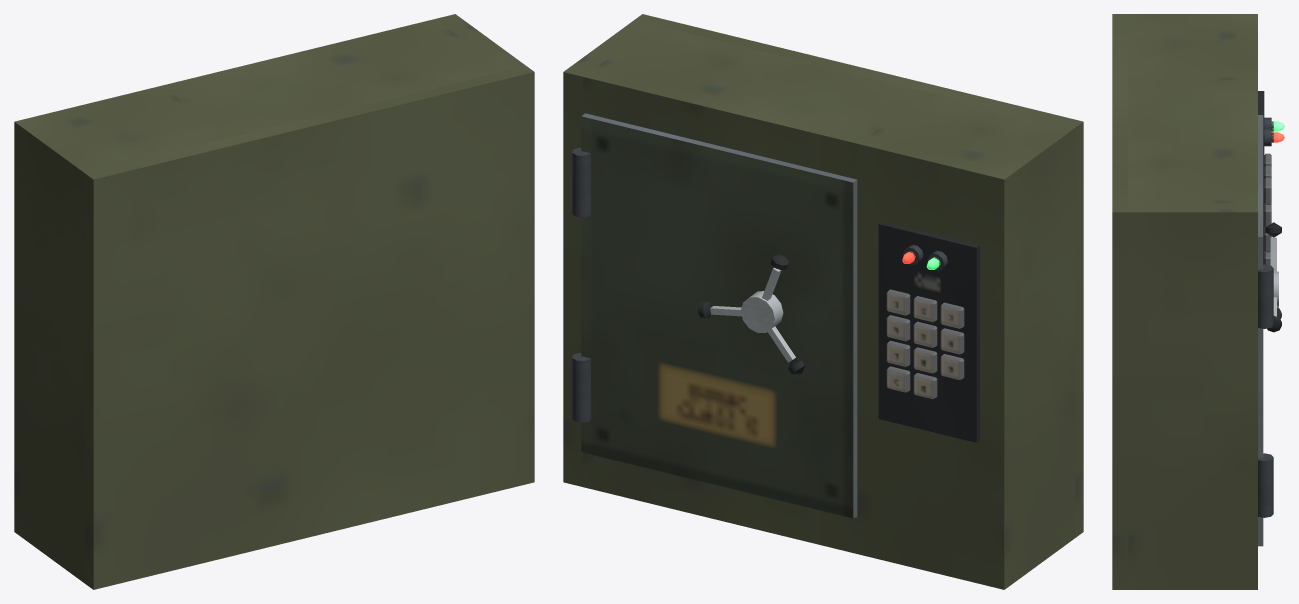
The model's file is safe_wall.fbx.
3 views of the same model, side by side, from view 1: azimuth 30°, elevation 25°; view 2: azimuth 150°, elevation 25°; view 3: azimuth 270°, elevation 25° (orthographic). The views are drawn at different scales.
Parts seen in each view (by area): view 1: safe_wall; view 2: safe_wall, safe_wall_door; view 3: safe_wall, safe_wall_door.
Part boxes in pixels (x1,y1,x2,y2): safe_wall: (14, 14, 534, 589); safe_wall: (563, 14, 1083, 589); safe_wall_door: (581, 113, 857, 518); safe_wall: (1112, 14, 1273, 589); safe_wall_door: (1258, 115, 1281, 546).
Size of the model in its own units: 0.9 by 0.8 by 0.331.
1 material, 1 textured.
